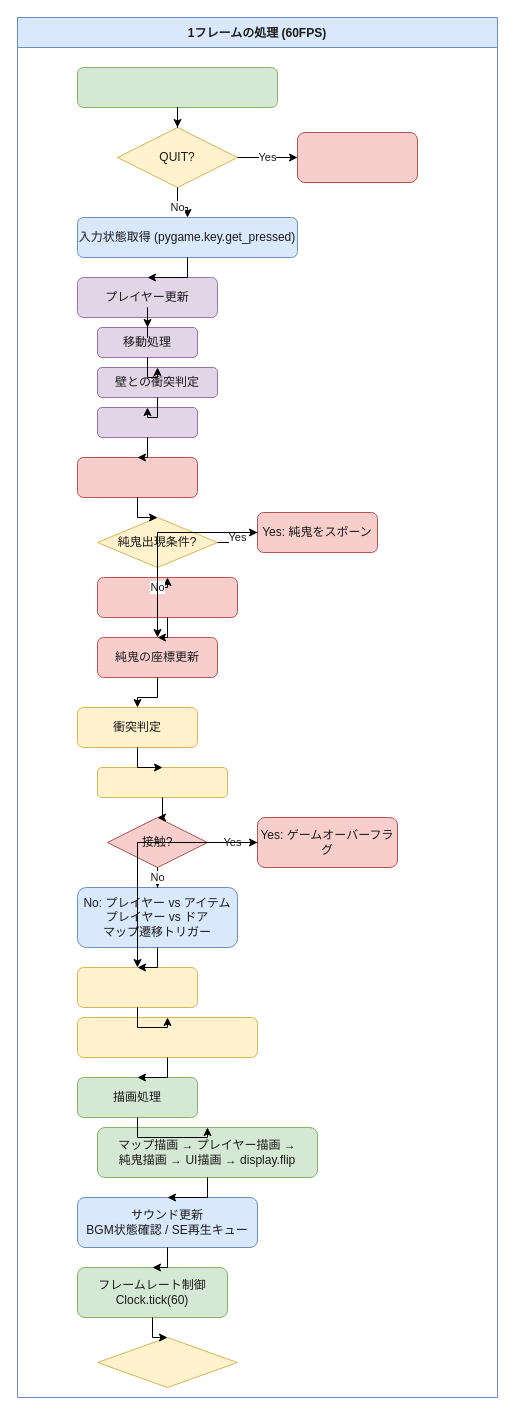
Some shapes in this 515 by 1415 pixel diagram are drawn without their labels. The centre of each missing label's shape, as x and y in pixels:
"No: 既存純鬼の追跡AI" goes at point (167, 597).
"Yes: ループ終了" goes at point (357, 157).
"イベント判定" goes at point (137, 987).
"イベント取得 (pygame.event.get)" goes at point (177, 87).
"プレイヤー vs 純鬼" goes at point (162, 782).
"ループ継続? → 次フレームへ" goes at point (167, 1362).
"位置確定" goes at point (147, 422).
"純鬼出現/選択肢/謎解きトリガー" goes at point (167, 1037).
"純鬼更新" goes at point (137, 477).
